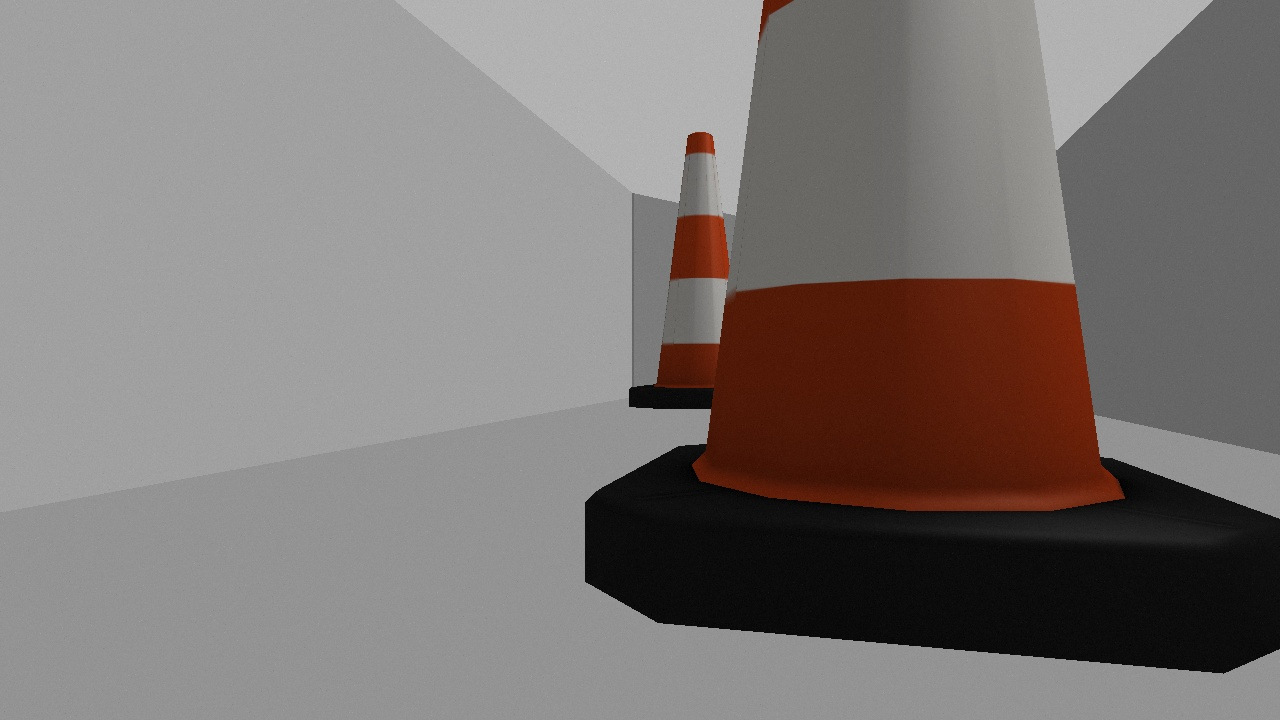barricade: (562, 1, 1280, 683), (618, 120, 781, 423)
